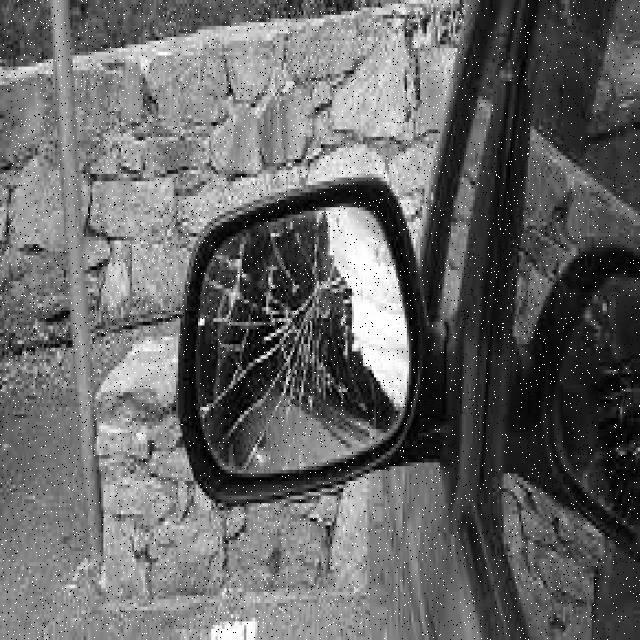Sidemirror-Damage: (163, 164, 435, 515)
